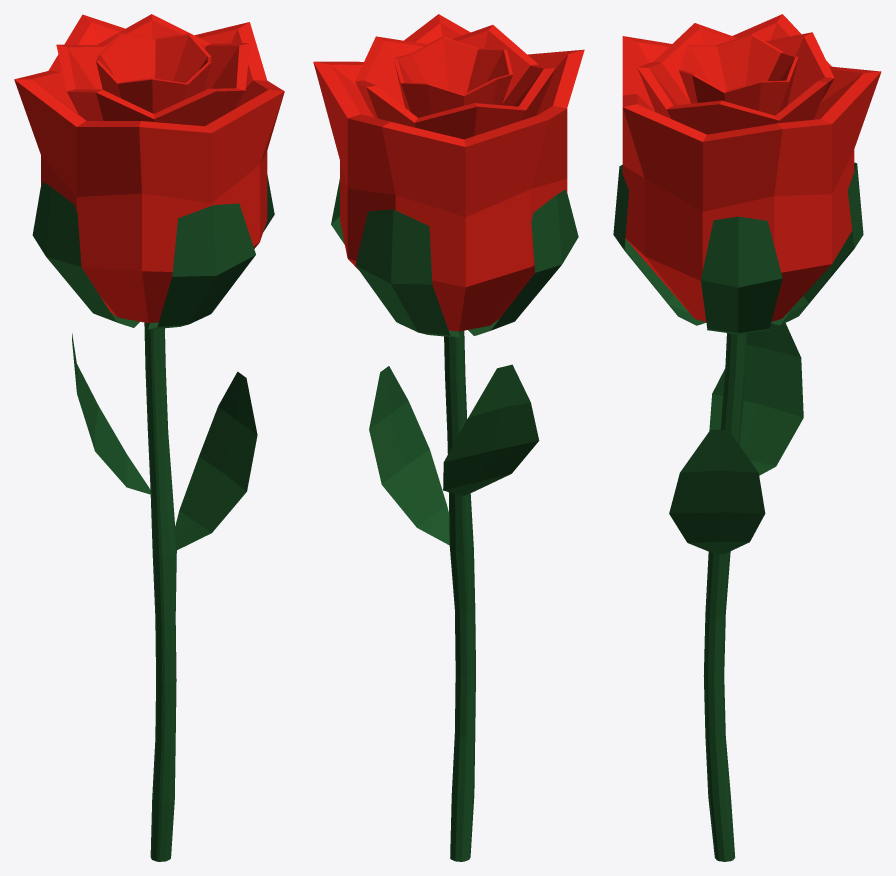
The model's file is Rosa.fbx.
The picture shows the model from 3 angles, left to right: view 1: azimuth 30°, elevation 25°; view 2: azimuth 150°, elevation 25°; view 3: azimuth 270°, elevation 25°; orthographic projection.
Visible parts, largest first — view 1: Rosa; view 2: Rosa; view 3: Rosa.
Part boxes in pixels (left/top/right/bottom): Rosa: left=14, top=14, right=284, bottom=861; Rosa: left=313, top=14, right=584, bottom=861; Rosa: left=613, top=14, right=881, bottom=861.
Bounding box in the file's own units: 25.76 × 83.39 × 25.37.
